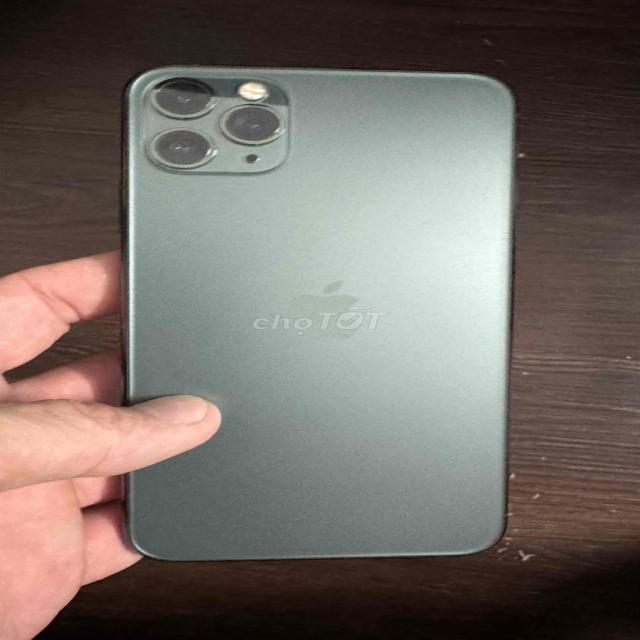gen_11: (100, 48, 526, 578)
